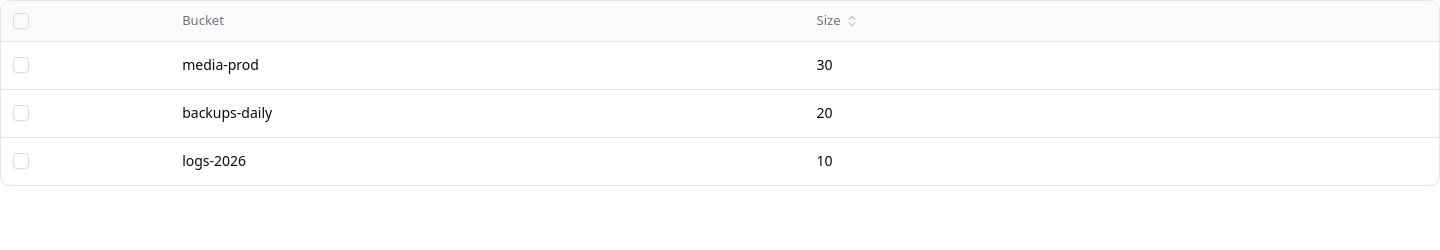
Test case: DataTable selection › shows the bulk bar with a live count once a row is selected, and hides it again
Click the checkbox named "Select row" next to "media-prod": click(21, 65) [13, 57, 29, 73]
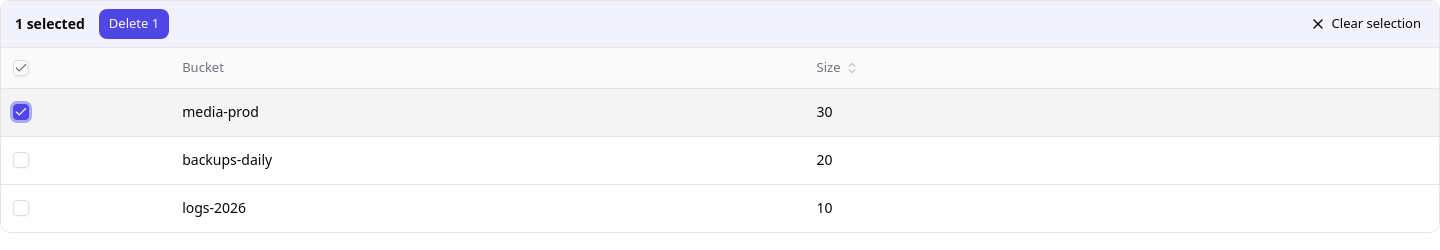
Check: the text "1 selected" is shown, box [11, 14, 93, 34]
Check: the button with test id "bulk-delete" reads "Delete 1", box [99, 9, 169, 39]
Click the checkbox named "Select row" next to "backups-daily": click(21, 160) [13, 152, 29, 168]
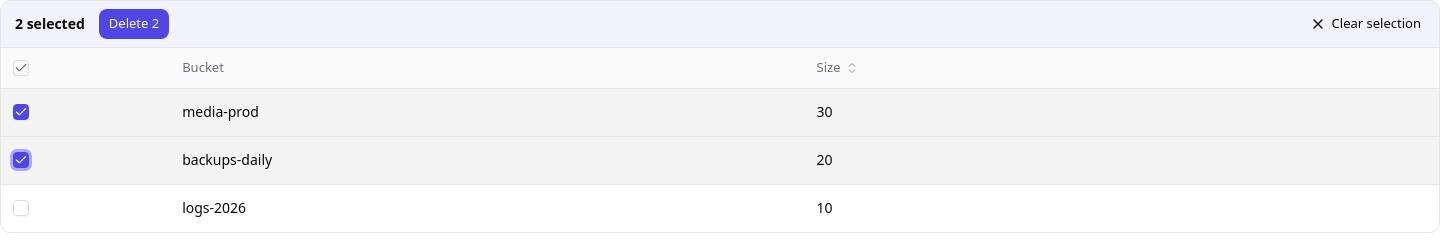
Check: the text "2 selected" is shown, box [11, 14, 93, 34]
Click the button "Clear selection": click(1365, 24) [1302, 9, 1429, 39]
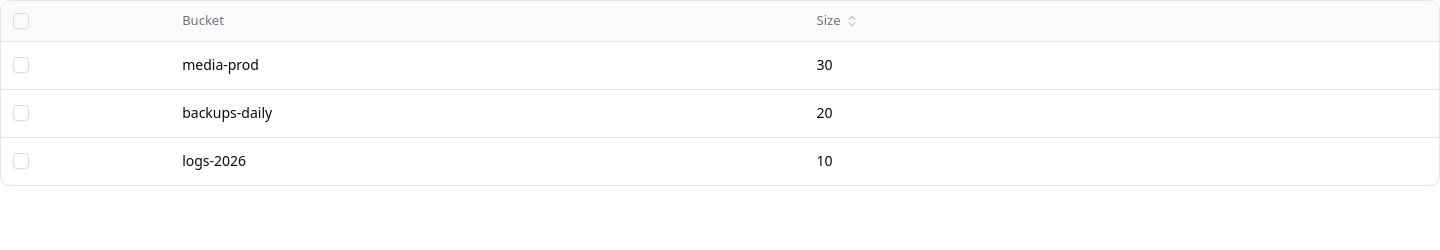
Check: the button with test id "bulk-delete" is gone
